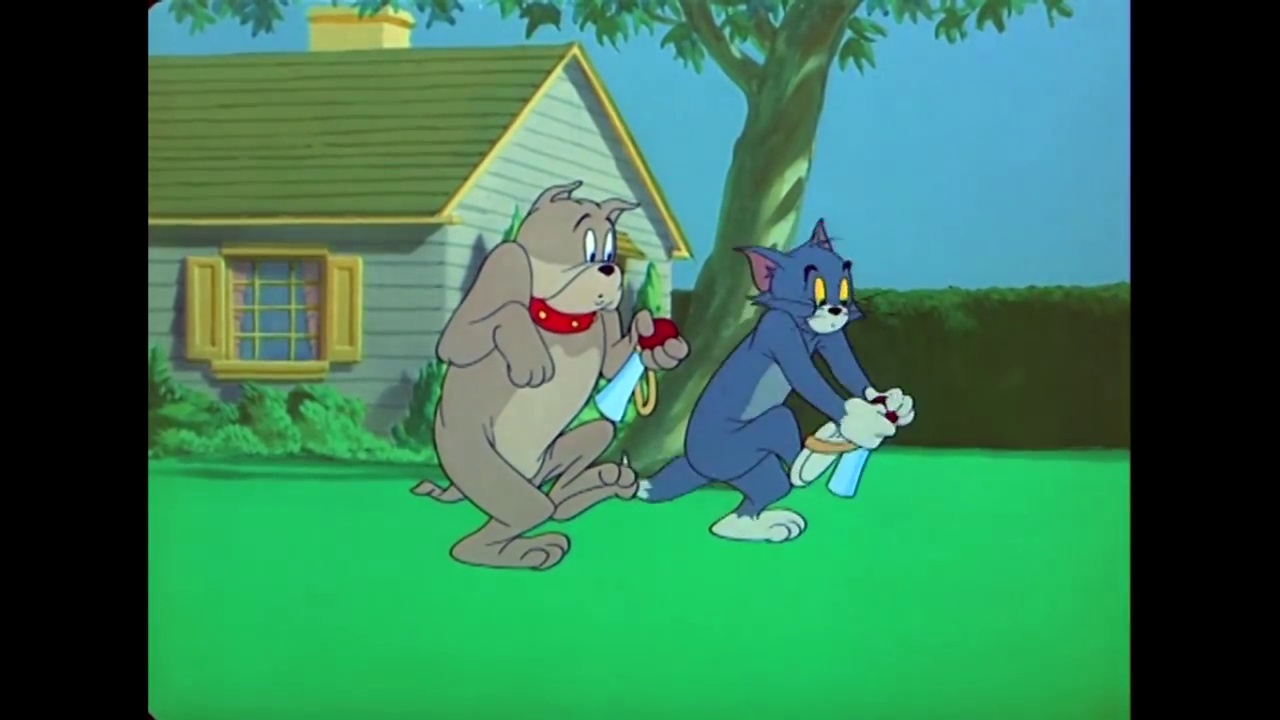spike: (504, 176, 638, 340)
tom: (736, 218, 872, 335)
